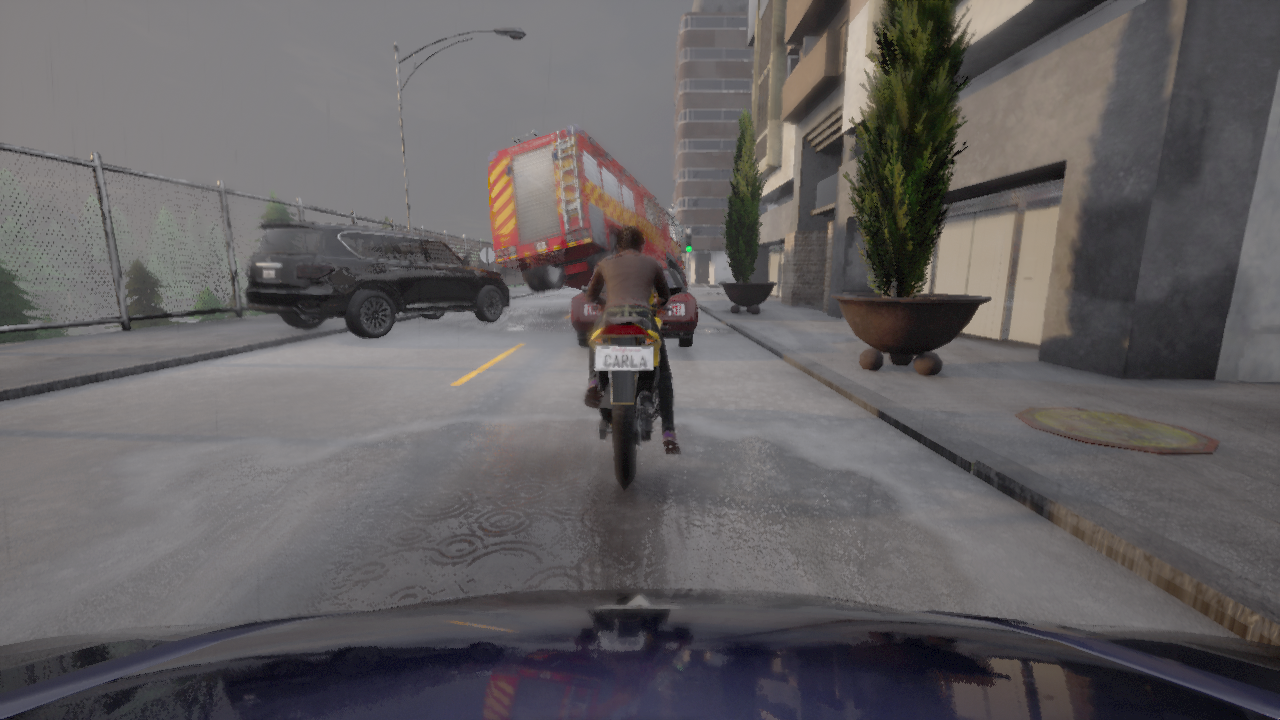cyclist: (0, 588, 1279, 719), (489, 123, 687, 293), (245, 222, 509, 338), (582, 286, 682, 491), (570, 269, 698, 347)
